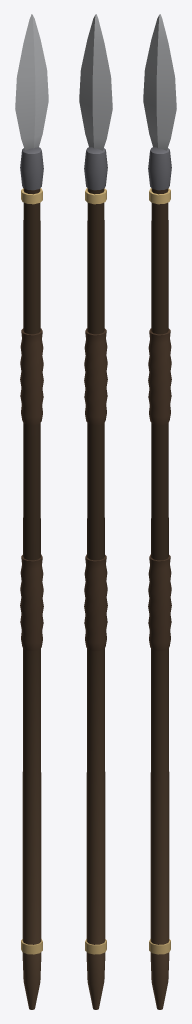
File: spear.glb
The picture shows the model from 3 angles, left to right: view 1: azimuth 30°, elevation 25°; view 2: azimuth 150°, elevation 25°; view 3: azimuth 330°, elevation 25°; orthographic projection.
Visible parts, largest first — view 1: spear; view 2: spear; view 3: spear.
Boxes of the visible parts, x1,y1,x2,y2 form: spear: [15, 14, 48, 1009]; spear: [79, 14, 112, 1009]; spear: [143, 14, 176, 1009].
Size of the model in its own units: 0.078 by 2.2 by 0.0457.
